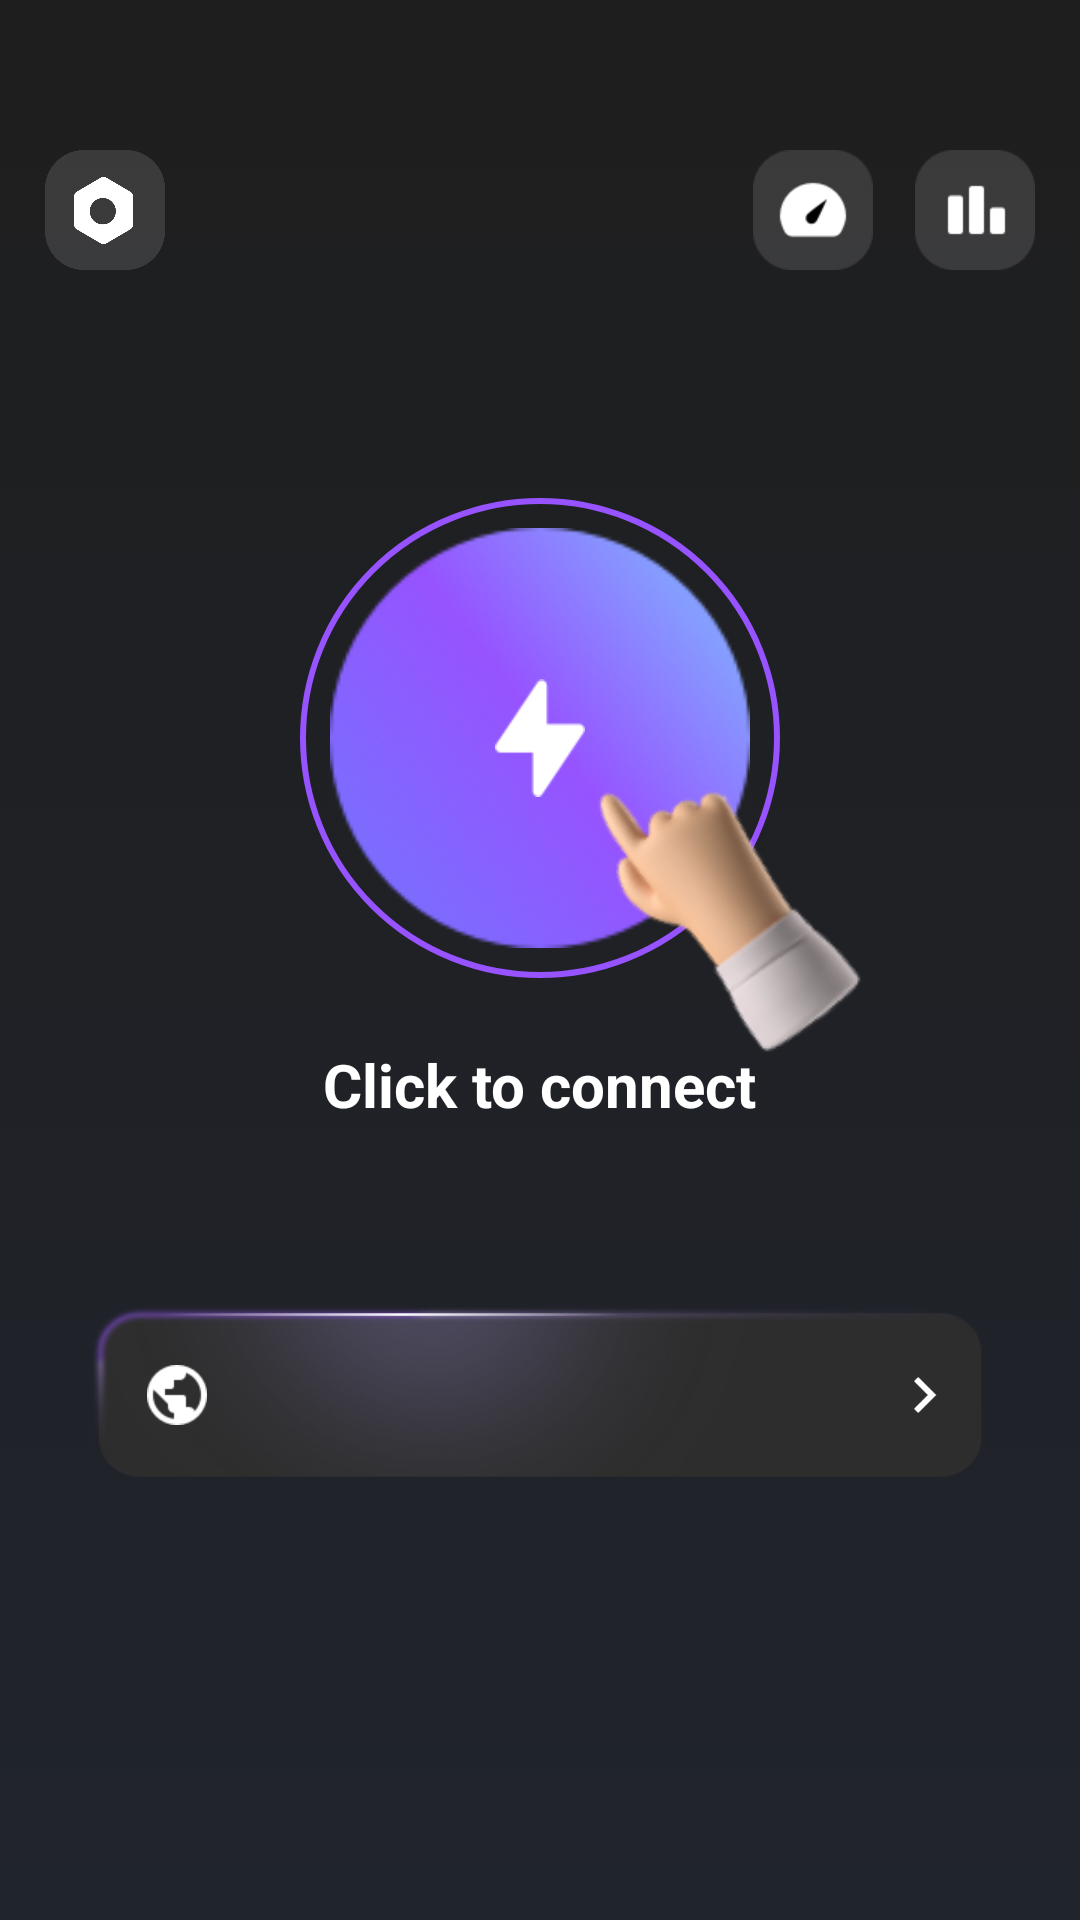

Where icons sit on this 1080×1920 app screen, as bbox(x1, y1, x2, y2):
arrow right: bbox(914, 1377, 936, 1413)
finger: bbox(569, 737, 861, 1051)
lightning: bbox(495, 679, 585, 797)
report: bbox(915, 150, 1035, 270)
